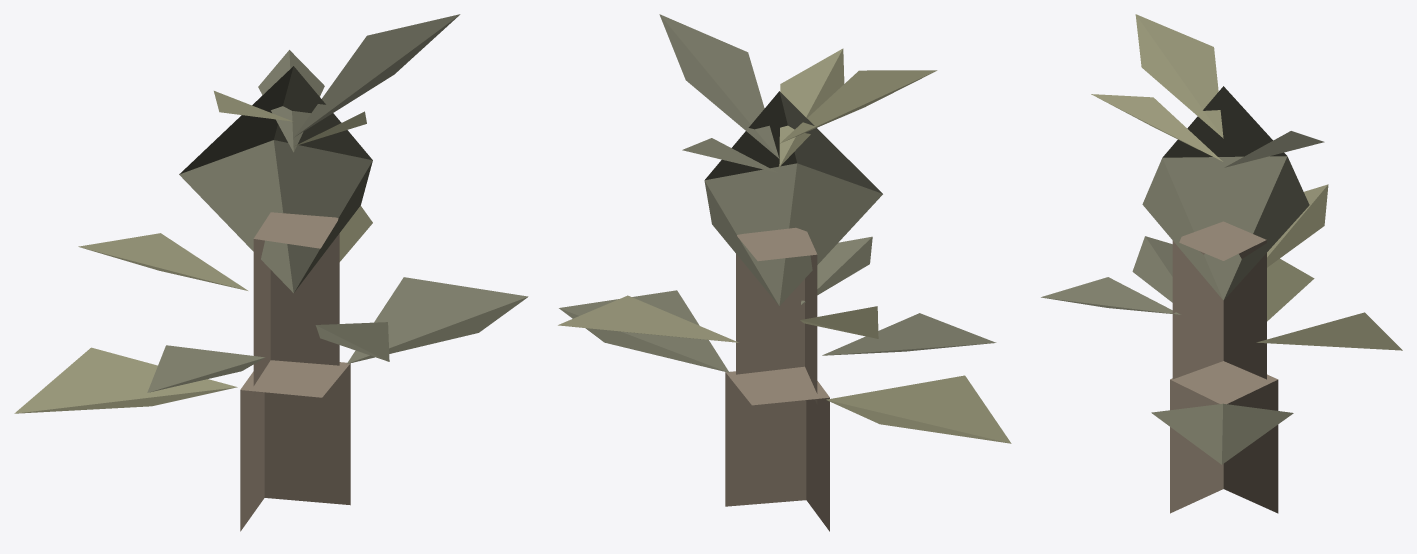
The model's file is shui.changpu@seedling__winter.glb.
3 views of the same model, side by side, from view 1: azimuth 30°, elevation 25°; view 2: azimuth 150°, elevation 25°; view 3: azimuth 270°, elevation 25° (orthographic). The views are drawn at different scales.
Parts seen in each view (by area): view 1: shui.changpu@seedling__winter; view 2: shui.changpu@seedling__winter; view 3: shui.changpu@seedling__winter.
Boxes of the visible parts, box(x1,y1,x2,y2) form: shui.changpu@seedling__winter: box(14, 14, 528, 531); shui.changpu@seedling__winter: box(558, 14, 1011, 531); shui.changpu@seedling__winter: box(1041, 14, 1402, 513).
Bounding box in the file's own units: 0.1428 × 0.1329 × 0.0957.
